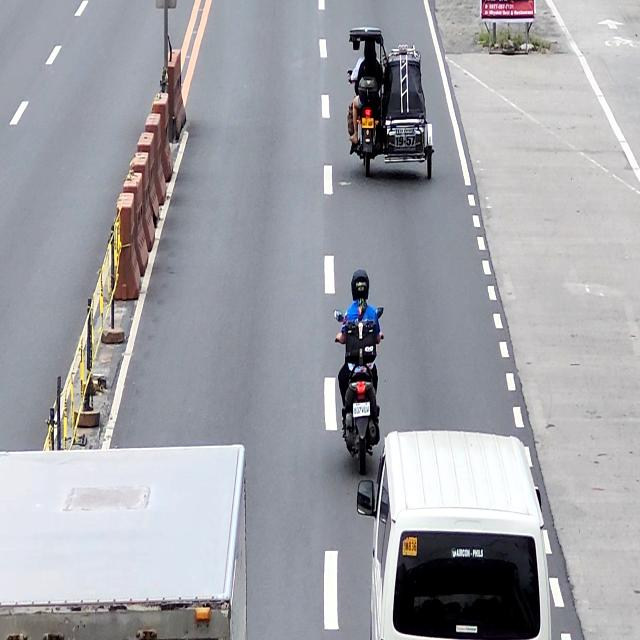Car: (356, 431, 552, 640)
License-Plate: (352, 401, 371, 420), (360, 118, 376, 130)
Motorcycle: (336, 302, 384, 480)
Tricycle: (348, 26, 436, 184)
Truck: (0, 440, 250, 639)
